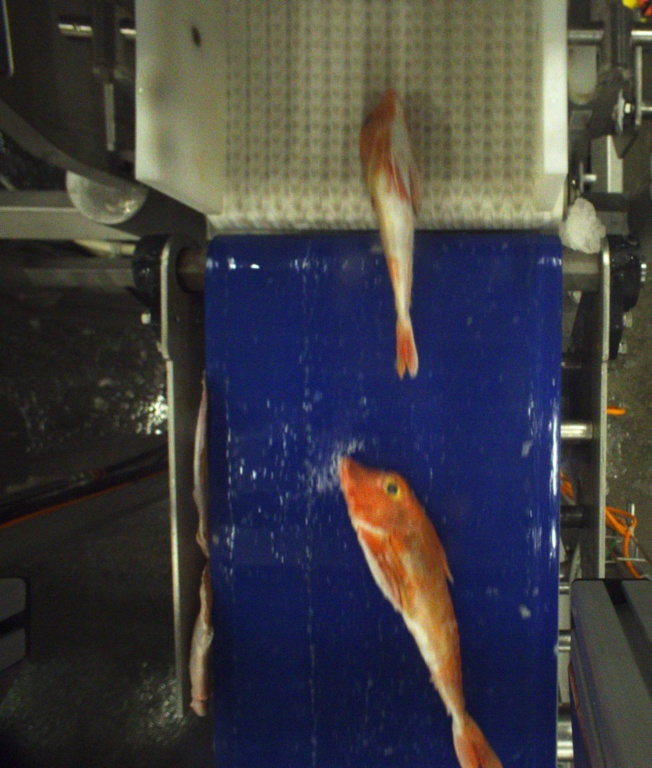GUU: (357, 85, 423, 381)
